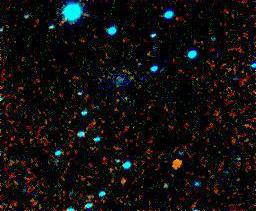star: (165, 150, 195, 180)
